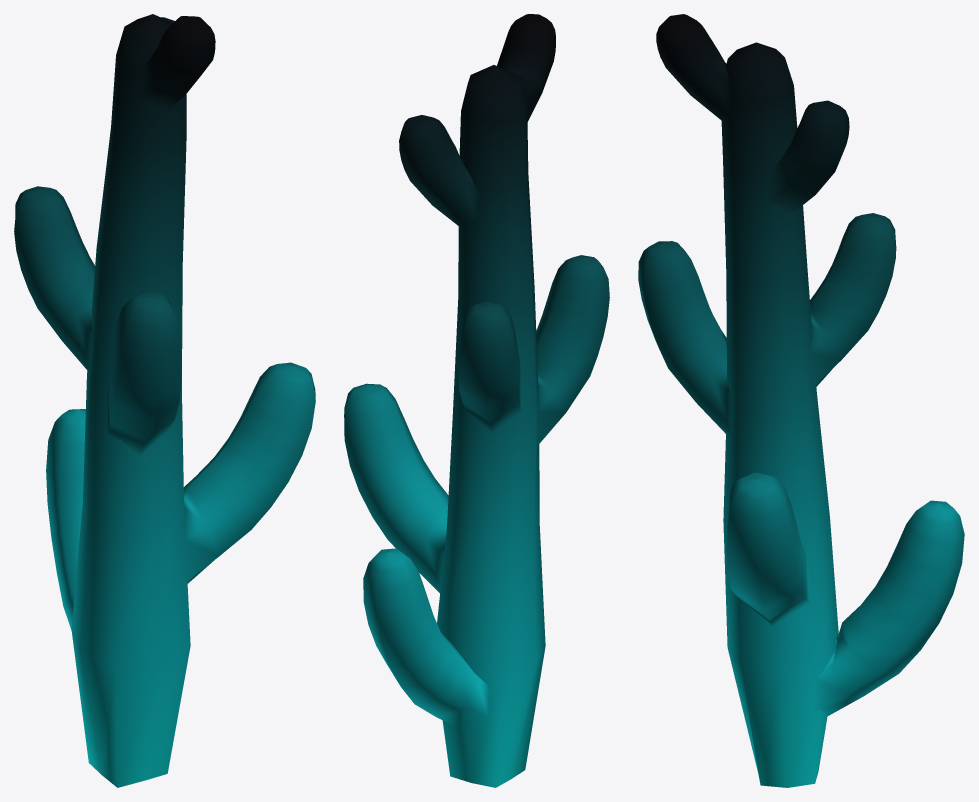
The model's file is Saguaro5.fbx.
The picture shows the model from 3 angles, left to right: view 1: azimuth 30°, elevation 25°; view 2: azimuth 150°, elevation 25°; view 3: azimuth 270°, elevation 25°; orthographic projection. The views are drawn at different scales.
Parts seen in each view (by area): view 1: Saguaro5_LOD0; view 2: Saguaro5_LOD0; view 3: Saguaro5_LOD0.
Part boxes in pixels (x1,y1,x2,y2): Saguaro5_LOD0: (14, 14, 315, 787); Saguaro5_LOD0: (344, 14, 609, 787); Saguaro5_LOD0: (638, 14, 964, 787).
Size of what is drawn, in the model's own units: 97.69 by 303 by 118.
